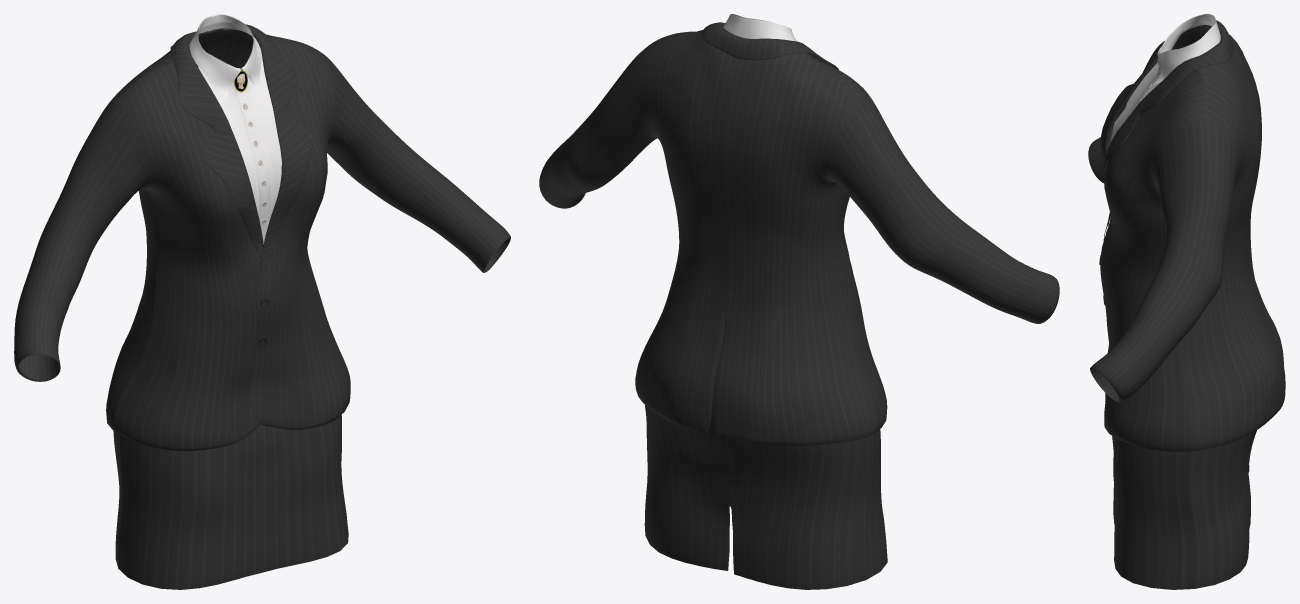
Rendered from toigo-female-suit.glb.
3 renders of one model, left to right at view 1: azimuth 30°, elevation 25°; view 2: azimuth 150°, elevation 25°; view 3: azimuth 270°, elevation 25°, orthographic. The views are drawn at different scales.
Parts seen in each view (by area): view 1: female suit; view 2: female suit; view 3: female suit.
Boxes of the visible parts, x1,y1,x2,y2 form: female suit: (14, 14, 510, 589); female suit: (539, 14, 1059, 589); female suit: (1088, 14, 1285, 589).
Size of the model in its own units: 91.92 by 92.72 by 32.02.
Materials: 1 (1 with a texture image).
